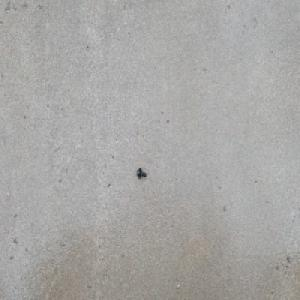BoltWasher: (136, 167, 146, 180)
